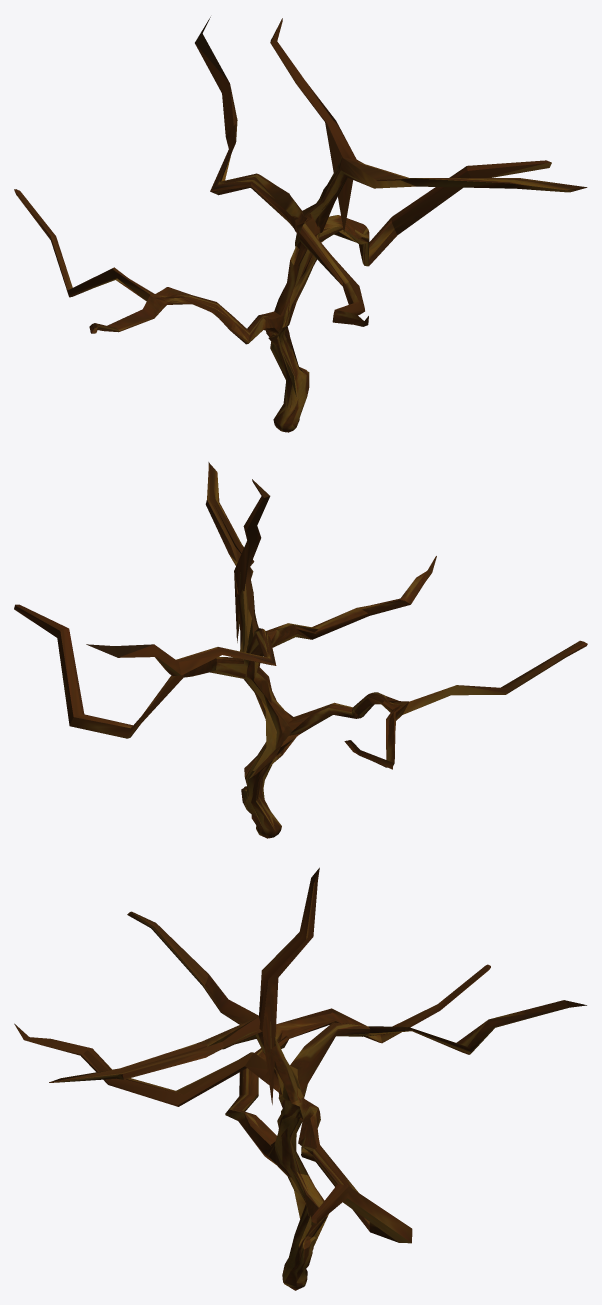
The model's file is tree_trunk_800m.DAE.
The picture shows the model from 3 angles, top to bottom: view 1: azimuth 30°, elevation 25°; view 2: azimuth 150°, elevation 25°; view 3: azimuth 270°, elevation 25°; orthographic projection. The views are drawn at different scales.
Visible parts, largest first — view 1: Cylinder01-Pivot; view 2: Cylinder01-Pivot; view 3: Cylinder01-Pivot.
Boxes of the visible parts, left/top/right/bottom form: Cylinder01-Pivot: left=14, top=17, right=587, bottom=432; Cylinder01-Pivot: left=14, top=462, right=587, bottom=838; Cylinder01-Pivot: left=14, top=867, right=586, bottom=1290.
Size of the model in its own units: 811 by 574 by 700.
